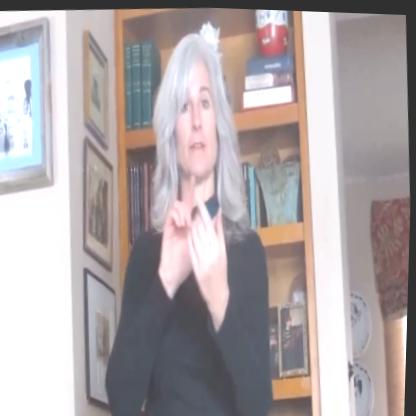NiceToMeetYou: (144, 176, 236, 317)
